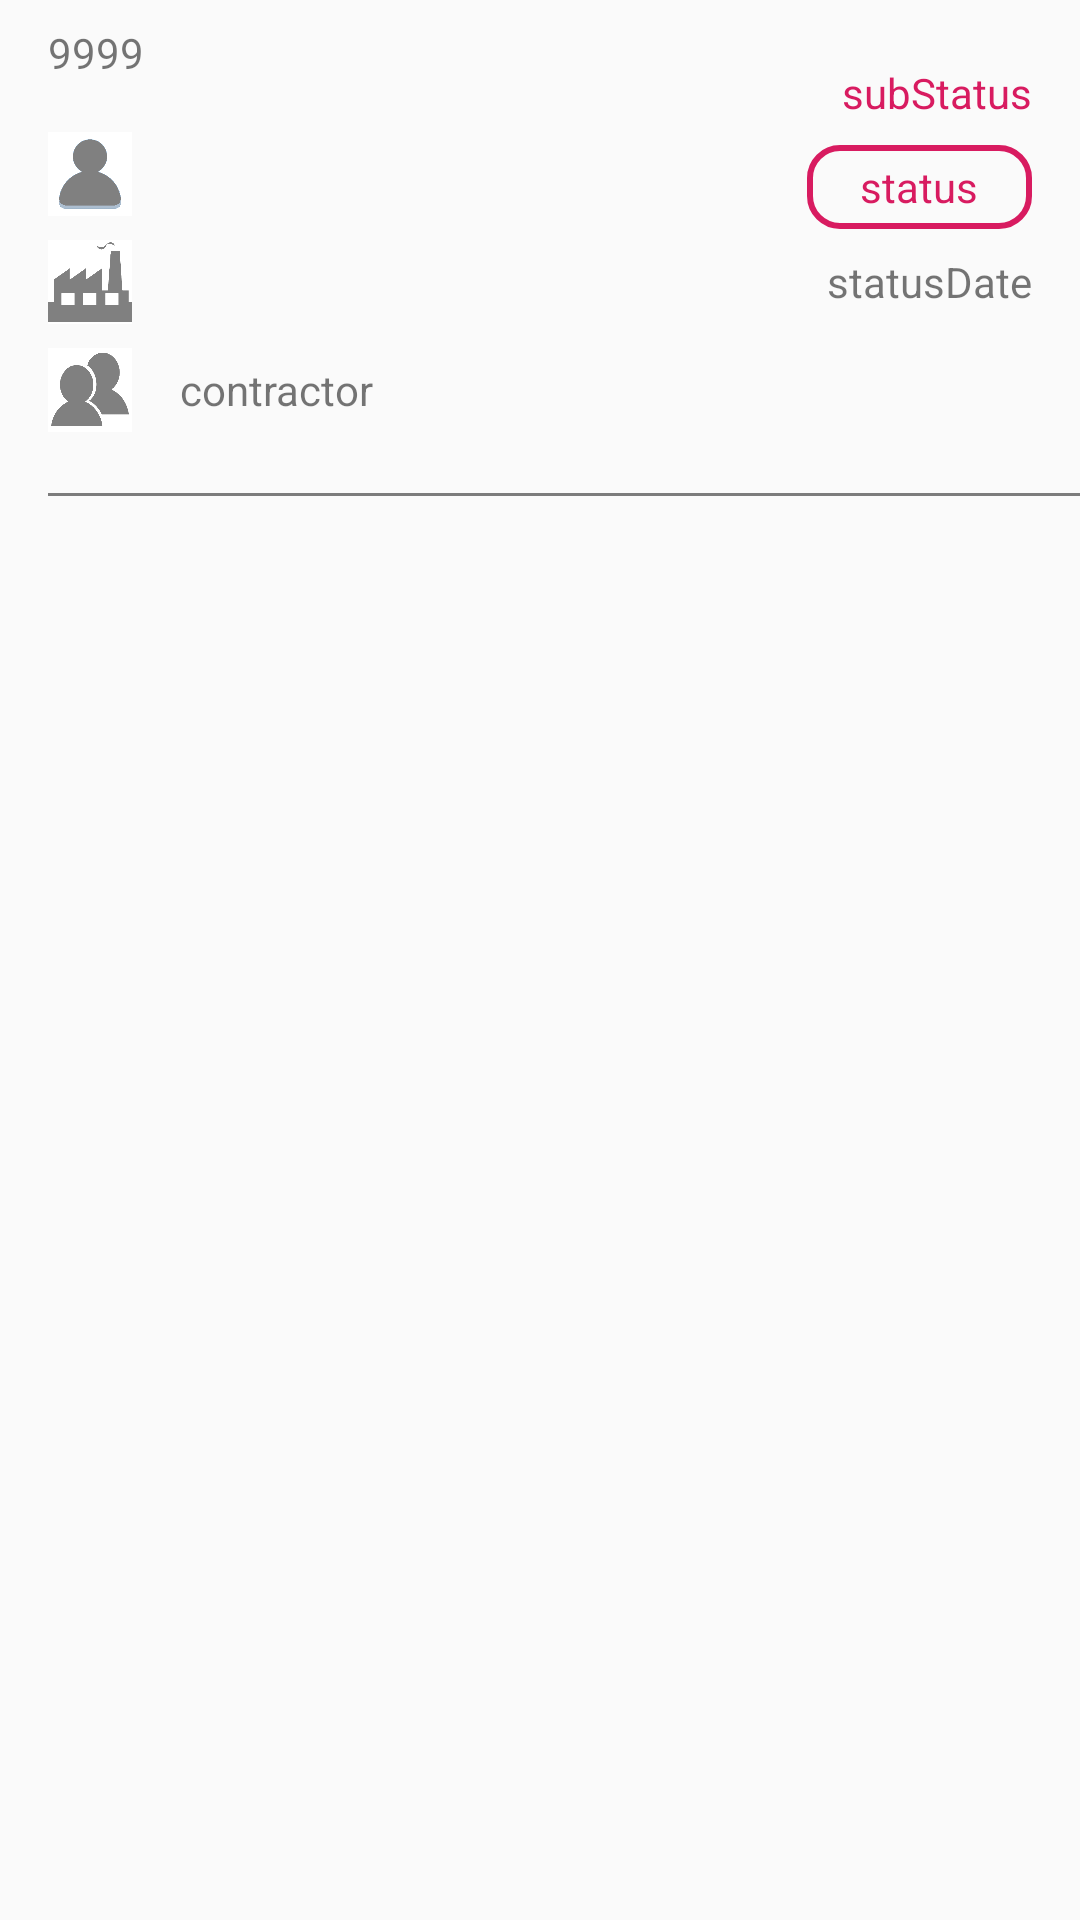

Icon bounding boxes for this 1080px x 1920px phone screenshot, format rect(x1, y1, x2, y2):
factory: rect(48, 242, 132, 322)
user: rect(59, 139, 121, 209)
